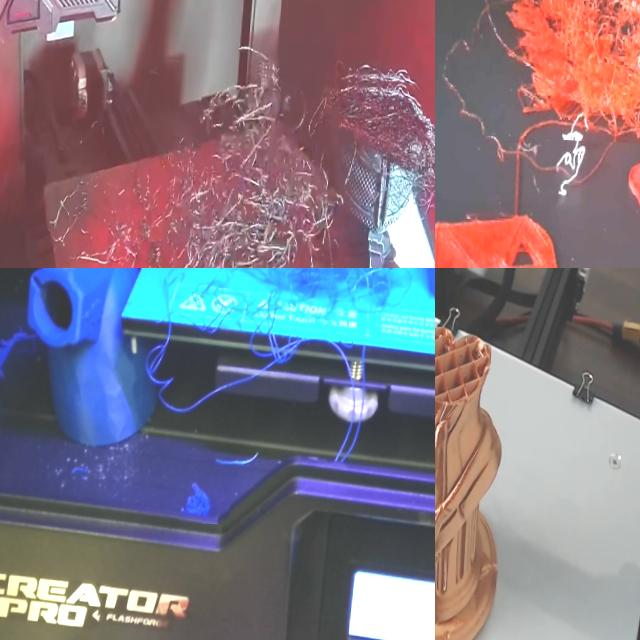spaghetti: (47, 76, 435, 268), (167, 268, 435, 346), (168, 474, 232, 526), (0, 312, 38, 390)
